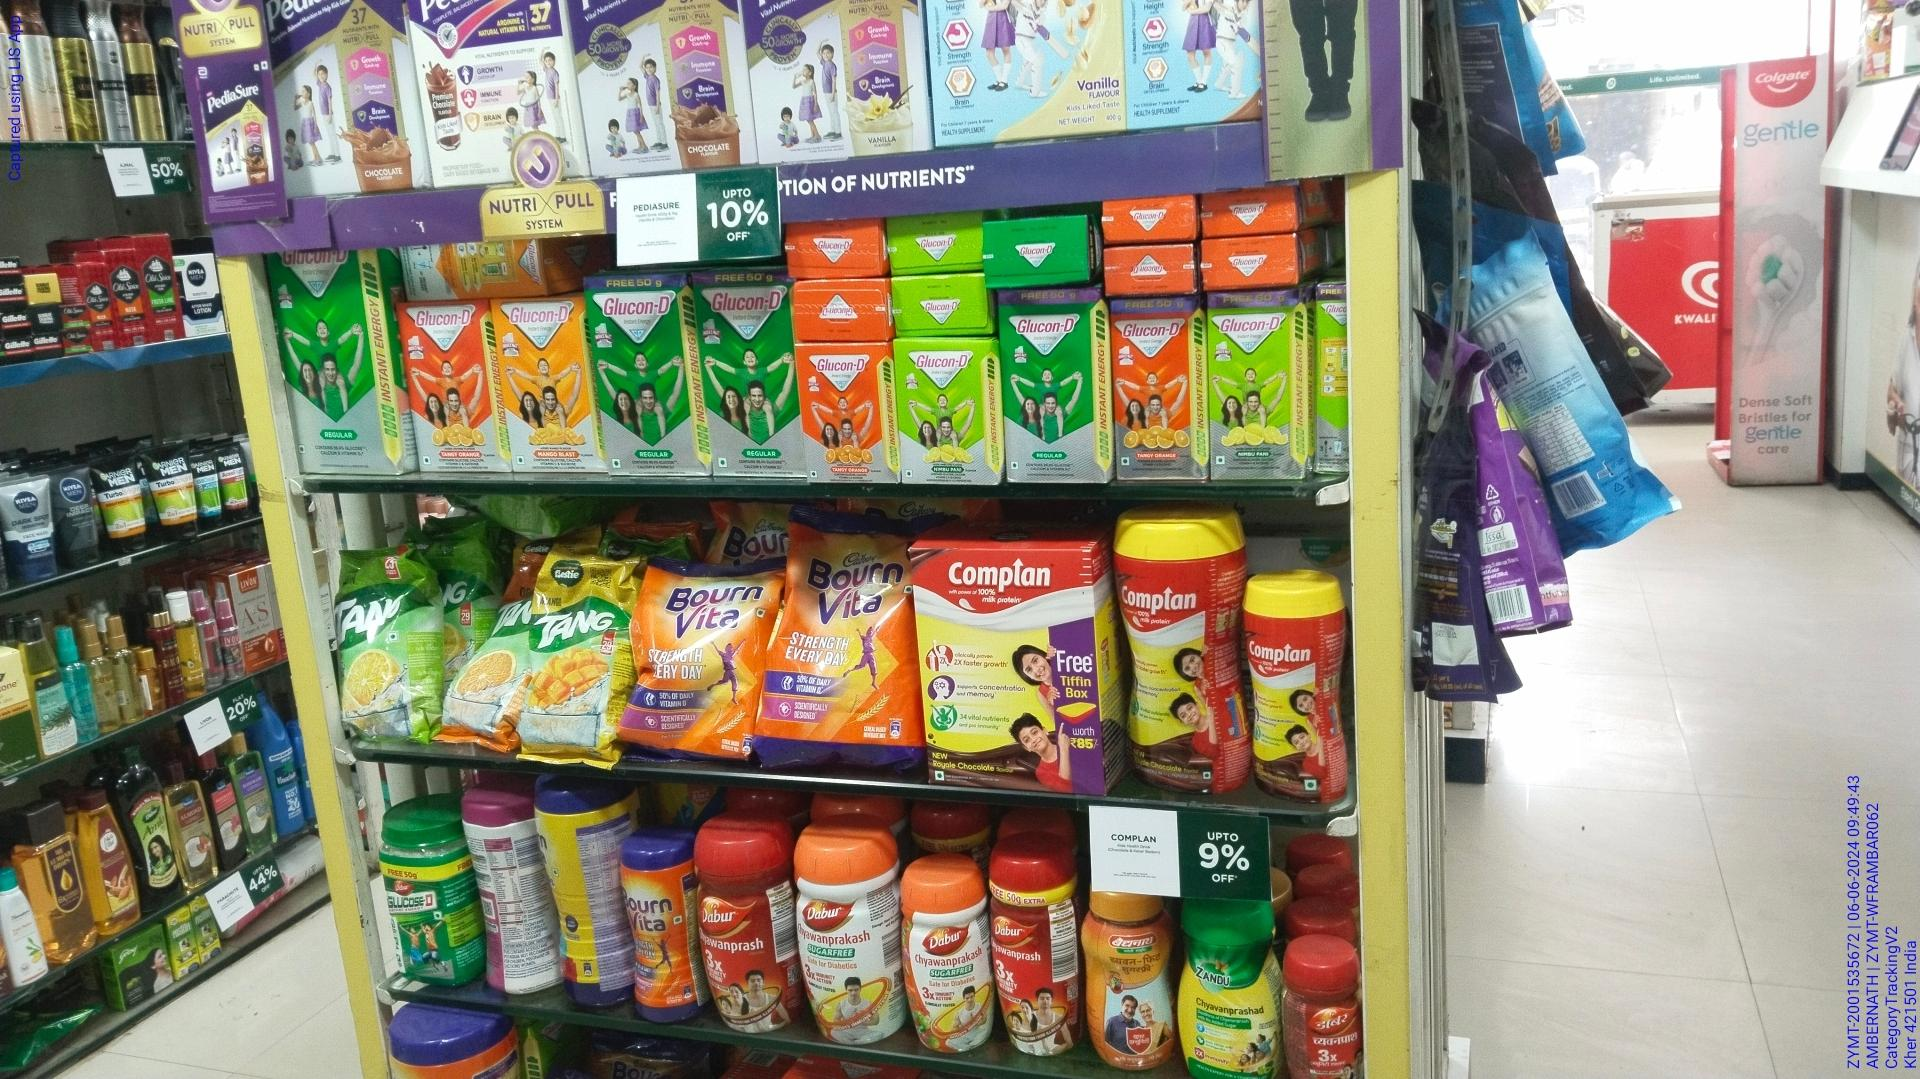BOURN_VITA_200_G_JAR: (622, 836, 692, 1021)
BOURN_VITA_500_G_POUCH: (636, 555, 749, 758)
BOURN_VITA_750_G_POUCH: (771, 529, 914, 765)
COMPLAN_CHOCOLATE_200_GMS_PACK: (1250, 576, 1344, 799)
COMPLAN_CHOCOLATE_500_GMS_JAR: (1120, 517, 1245, 794)
